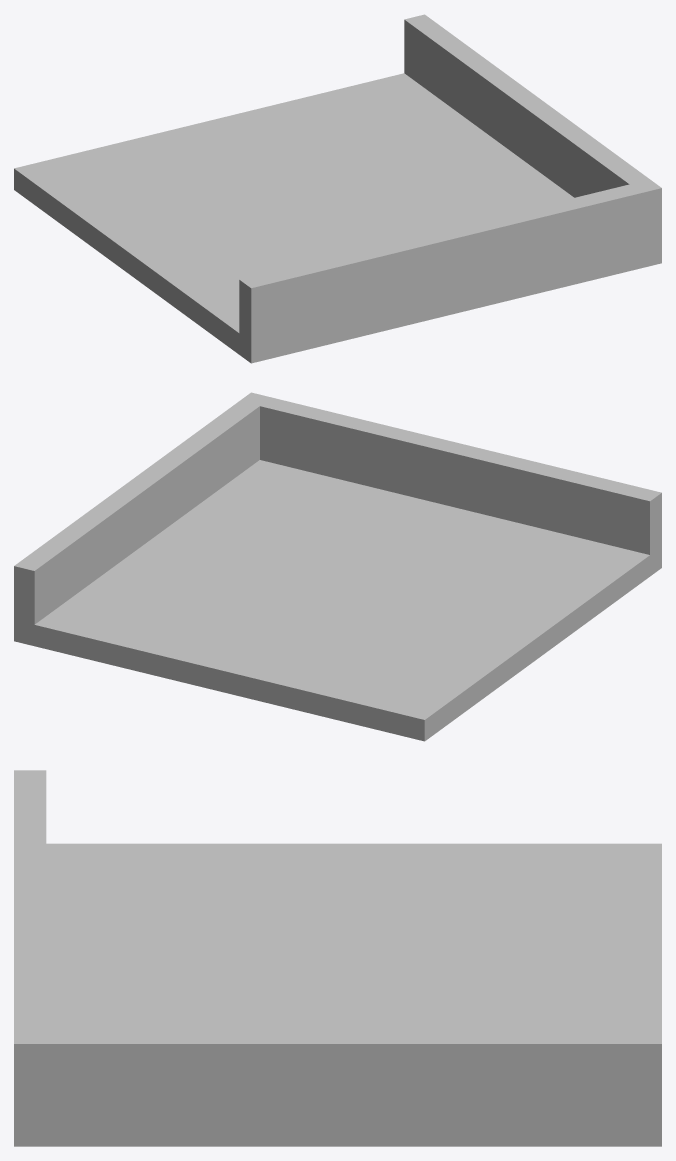
The model's file is MetalRoof_Corner.glb.
The picture shows the model from 3 angles, top to bottom: view 1: azimuth 30°, elevation 25°; view 2: azimuth 150°, elevation 25°; view 3: azimuth 270°, elevation 25°; orthographic projection. The views are drawn at different scales.
Parts seen in each view (by area): view 1: roof_flat_corner_metal; view 2: roof_flat_corner_metal; view 3: roof_flat_corner_metal.
Boxes of the visible parts, x1,y1,x2,y2 form: roof_flat_corner_metal: [14, 14, 661, 363]; roof_flat_corner_metal: [14, 392, 661, 741]; roof_flat_corner_metal: [14, 770, 661, 1146].
Size of what is drawn, in the model's own units: 4 by 0.7 by 4.
Materials: 1 (1 with a texture image).
